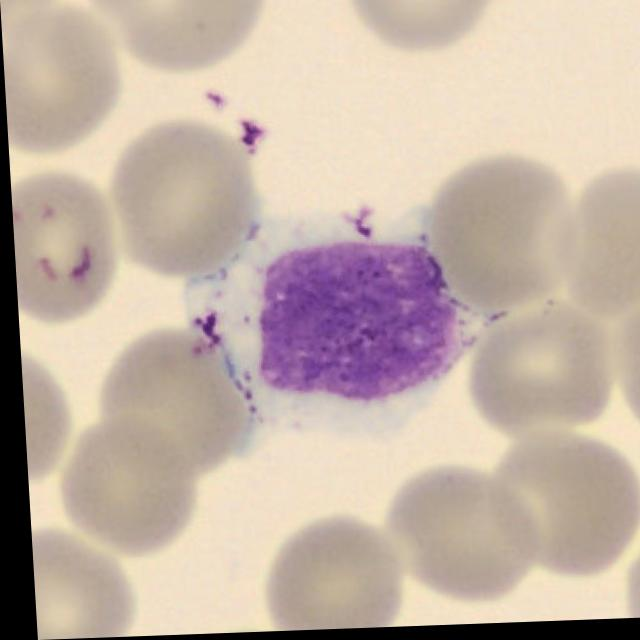Linfocito atipico: (184, 211, 497, 448)
